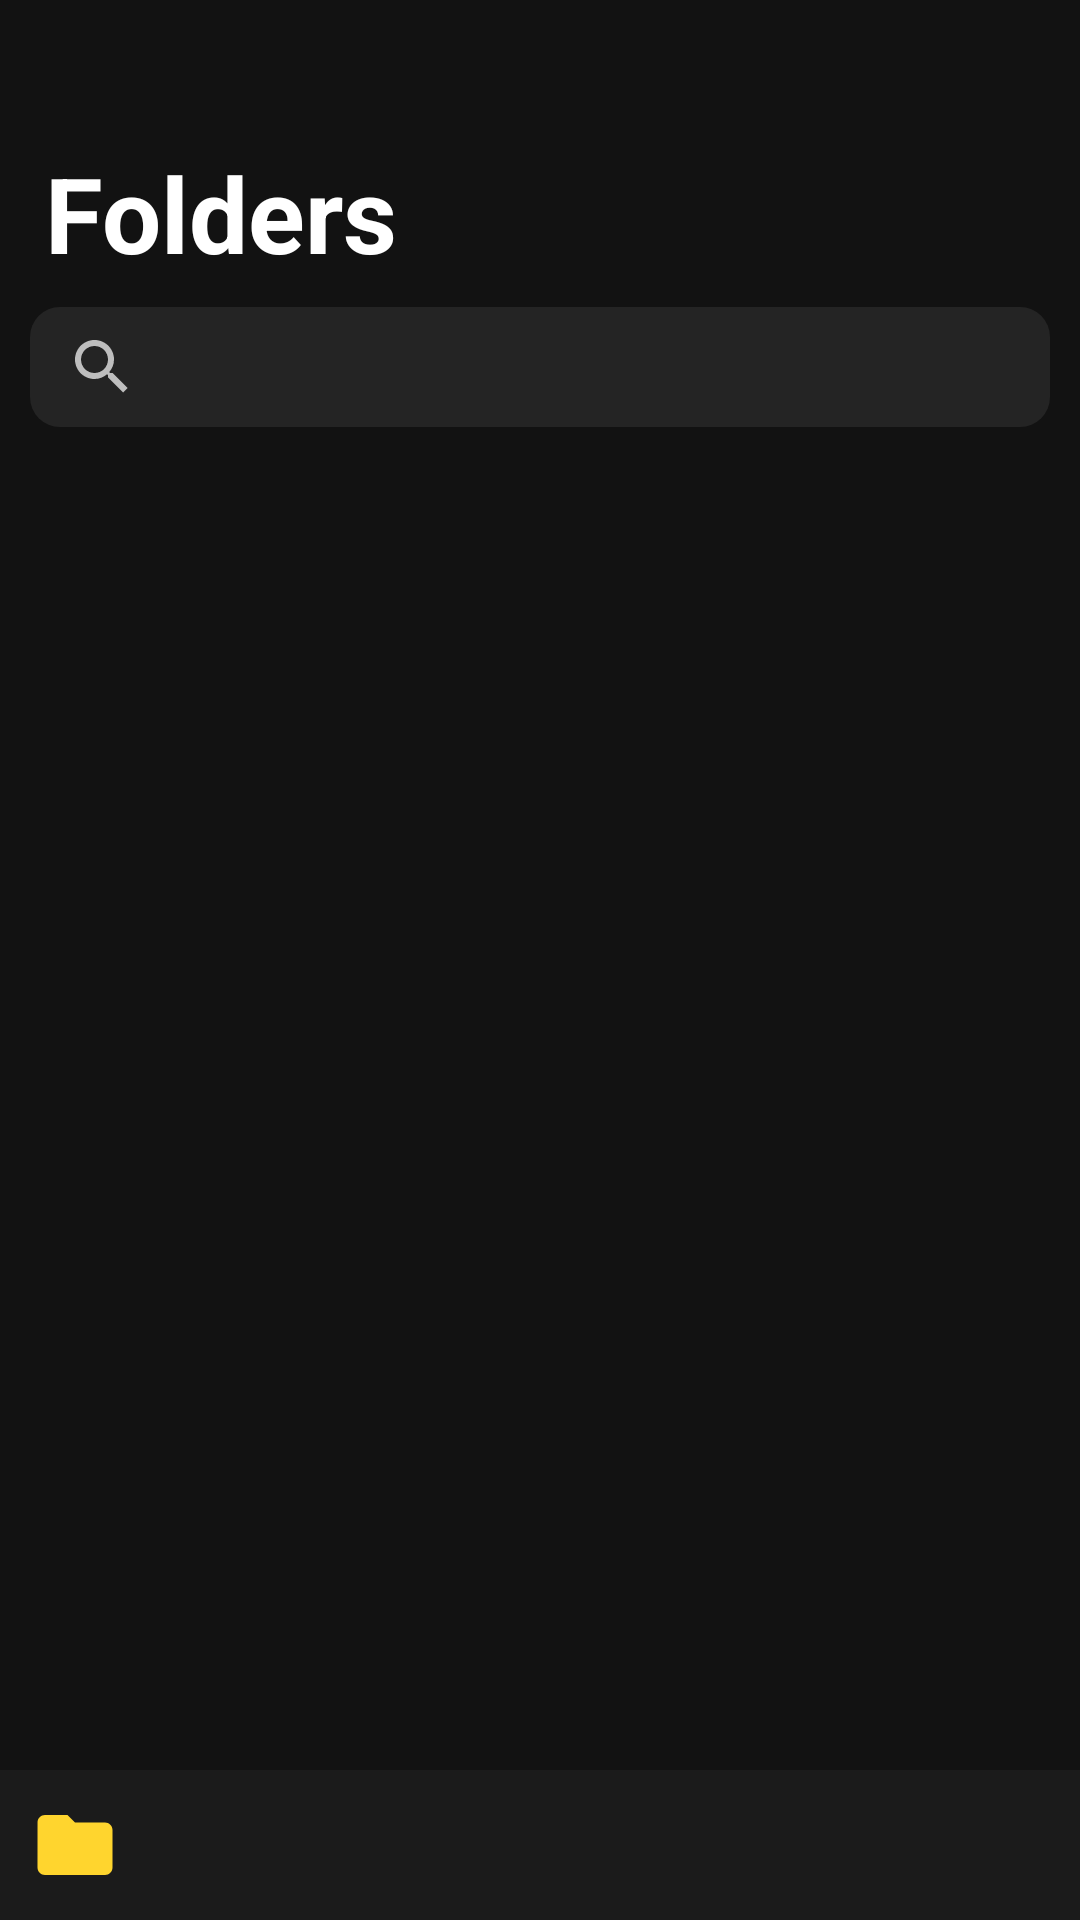

Icon click points for this 1080x1920 phone screenshot, format [x,y]:
folder: [75,1845]
